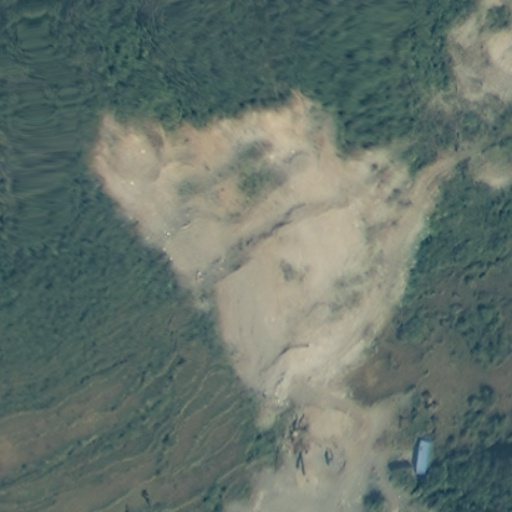landslide: (97, 107, 416, 512)
